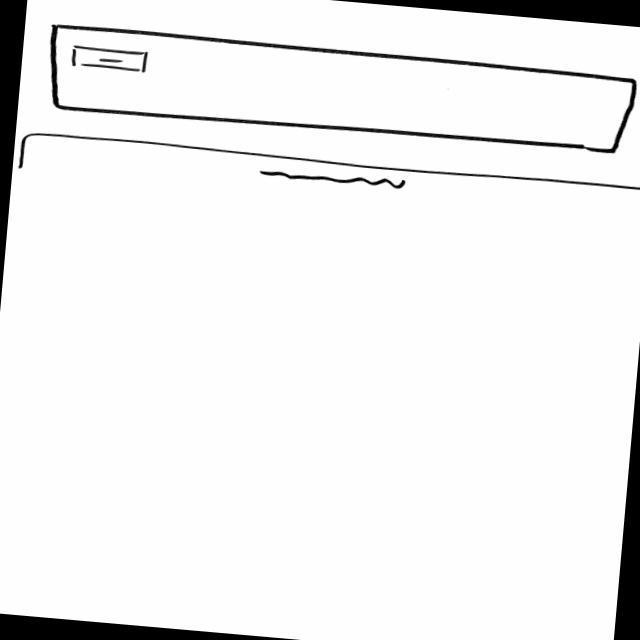container: (41, 22, 638, 160)
icon-button: (68, 46, 149, 75)
text: (260, 167, 409, 193)
